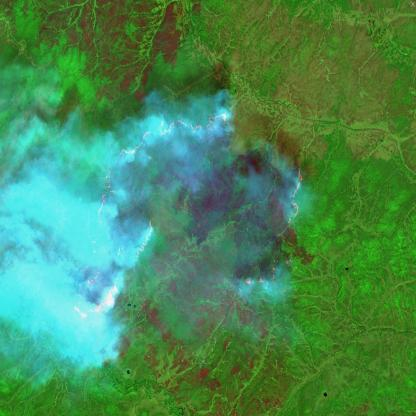fire: (69, 106, 304, 327)
